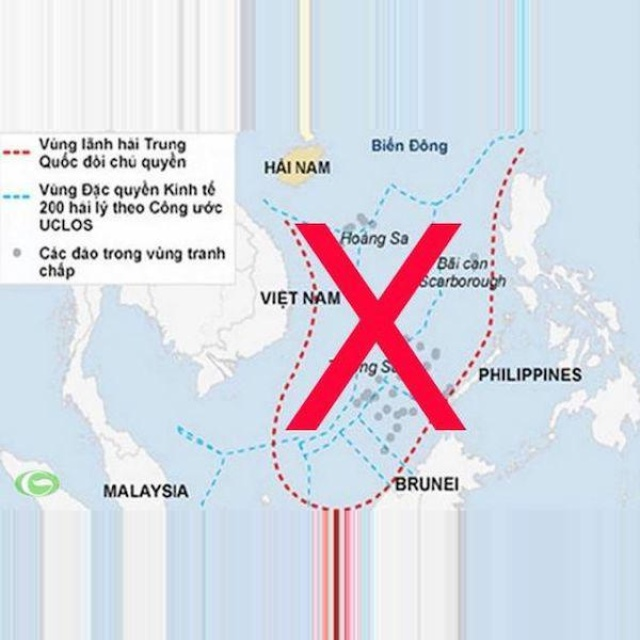Nine Dash Line: (272, 142, 528, 638)
